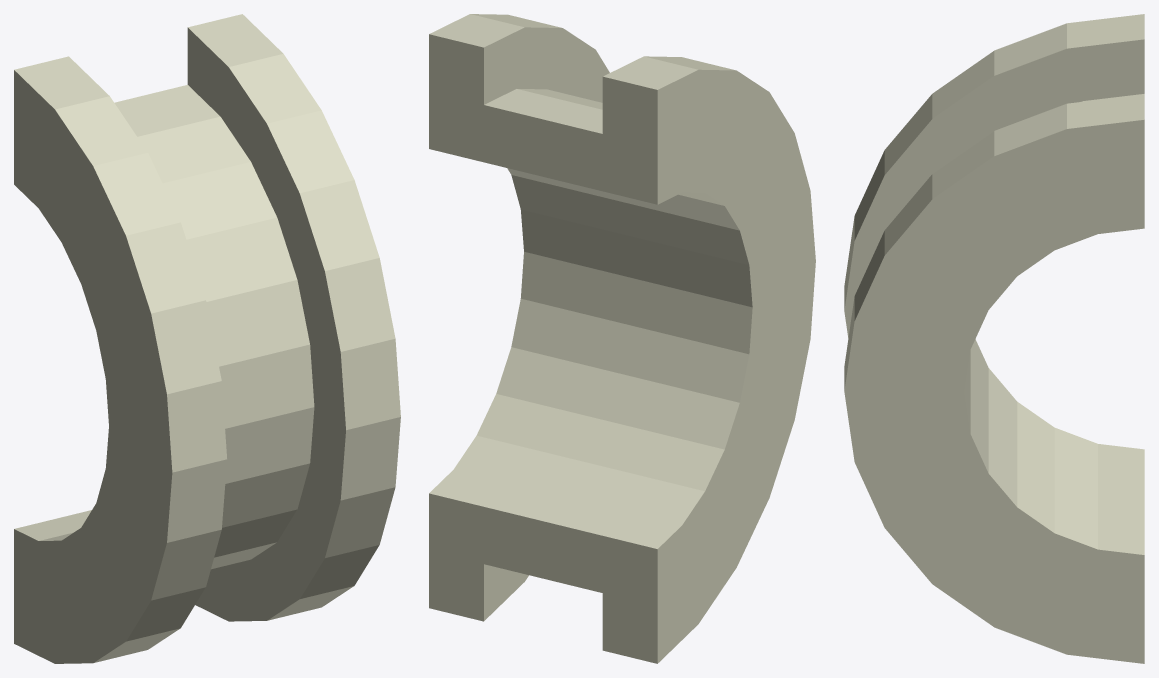
Rendered from section_386.obj.
The picture shows the model from 3 angles, left to right: view 1: azimuth 30°, elevation 25°; view 2: azimuth 150°, elevation 25°; view 3: azimuth 270°, elevation 25°; orthographic projection. The views are drawn at different scales.
Bounding box in the file's own units: 4.17 × 10 × 5.
